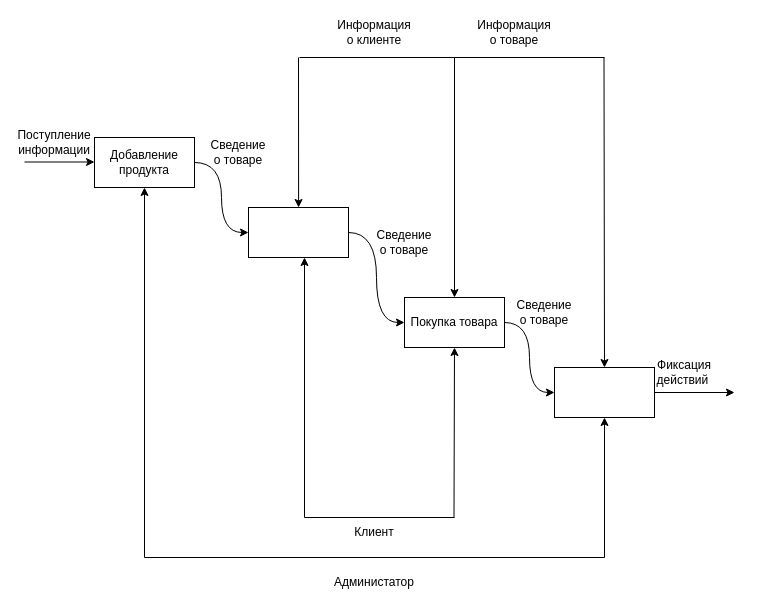
The diagram is 760 pixels wide and 614 high, and some of its shapes have lost their labels. Here are the shapes that lost their labels. From the top down, the centre of each, then its label:
At pixel 298 232: "Выбор продукта".
At pixel 604 392: "Обновление информации".
